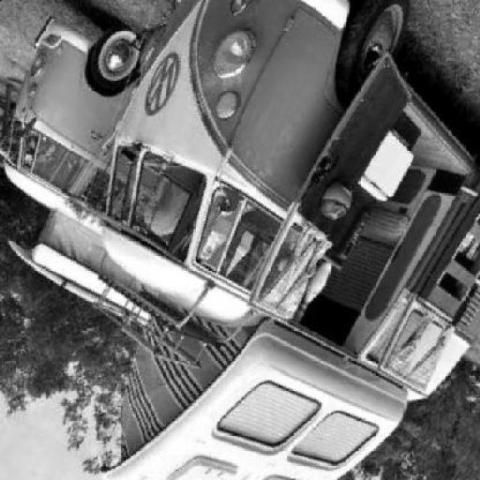van: (103, 0, 480, 403)
